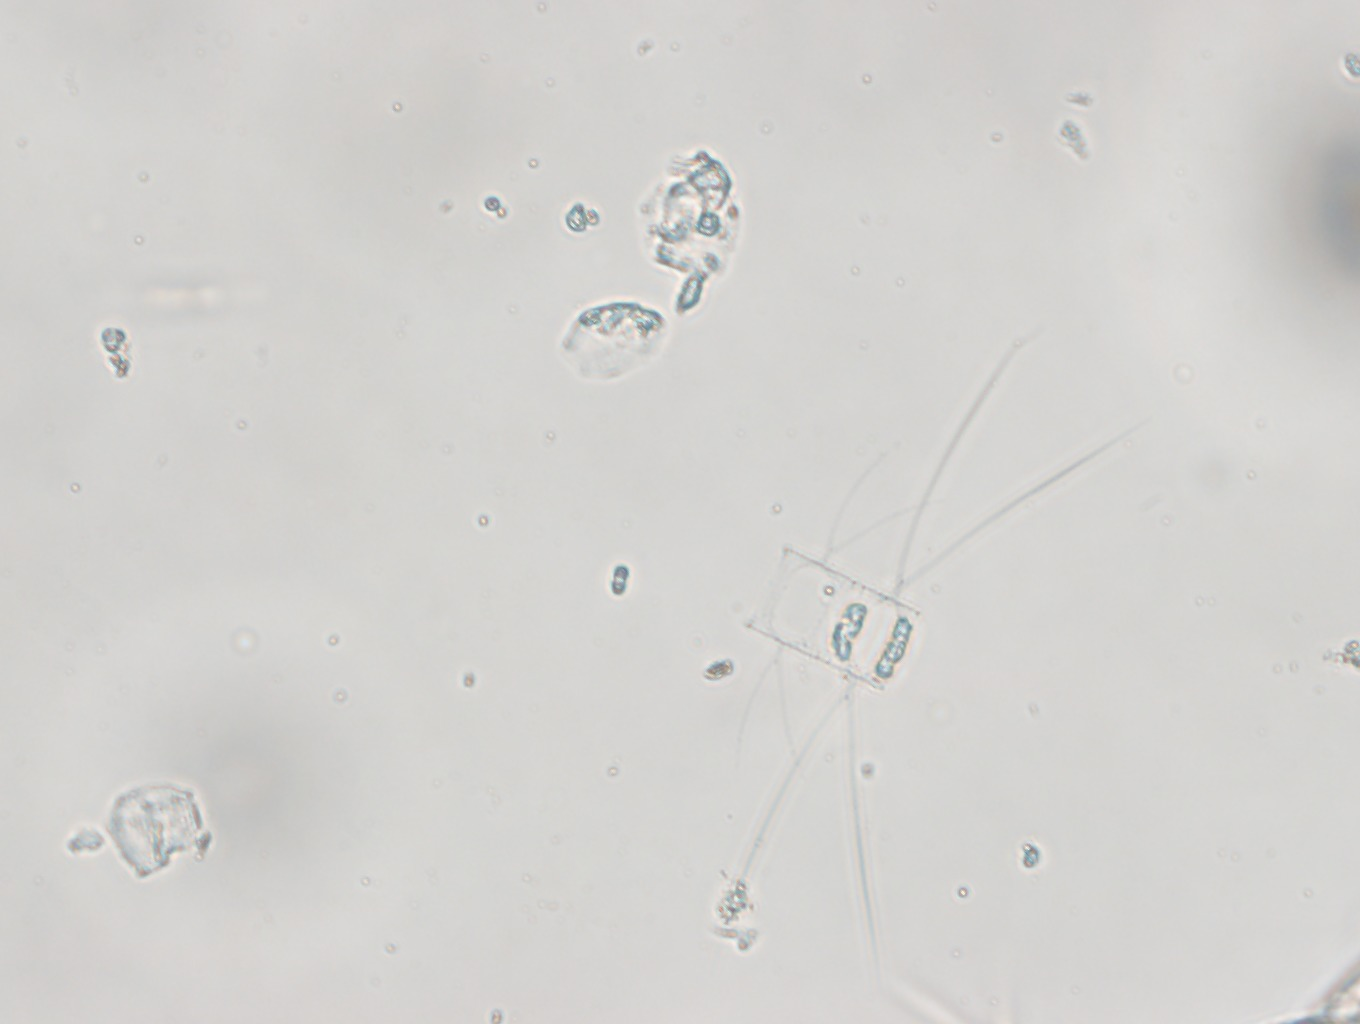chaetoceros: (730, 322, 1143, 962)
